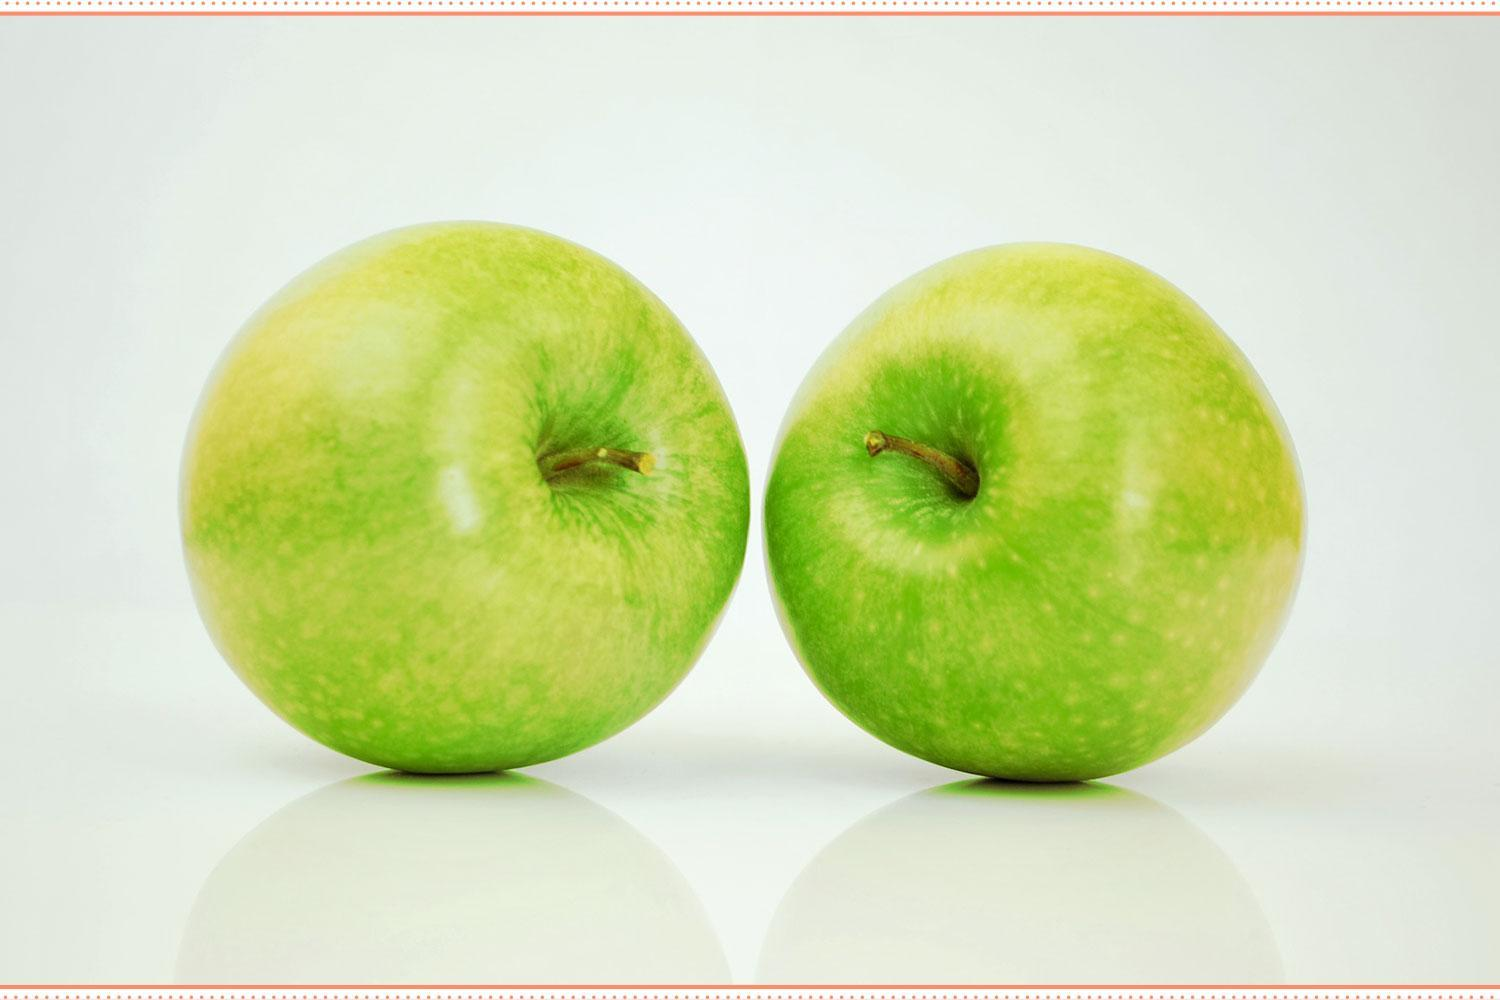apple: (172, 221, 751, 778), (757, 240, 1309, 787)
